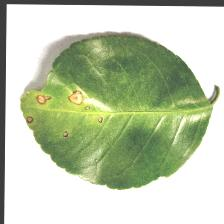canker: (21, 72, 110, 144)
